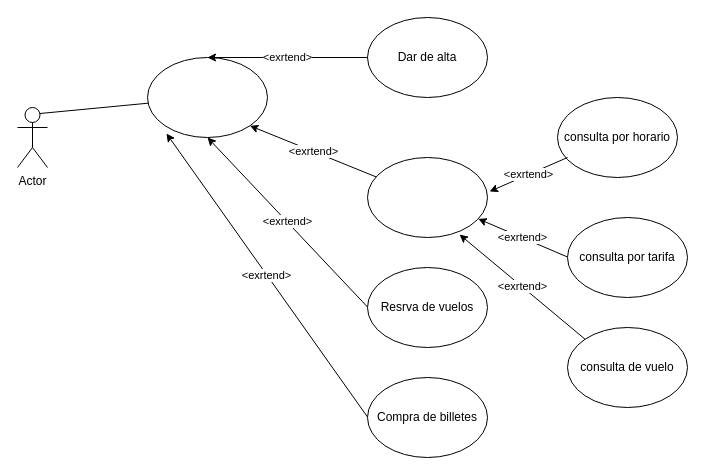
Some shapes in this 705 by 475 pixel diagram are drawn without their labels. The centre of each missing label's shape, as x and y in pixels:
Acceder al sistema: (x=207, y=97)
Consulta de vuelos: (x=427, y=197)
